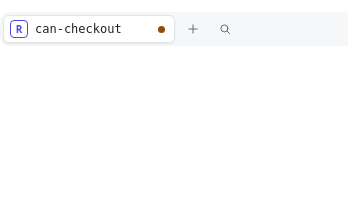
Scenario: TabStrip › keeps the card while the pointer moves onto it, and drops it when the pointer leaves the card (WCAG 1.4.13)
Hover over the tab "R can-checkout" at (78, 29), box [4,16,152,42]
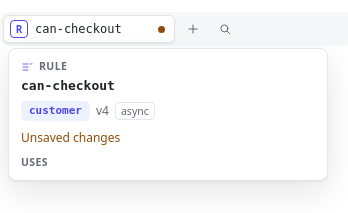
Hoverable: leaving the tab *for the card* is not leaving.
Move the pointer off the tab "R can-checkout", box [4,16,152,42]
Now the tooltip "Rule can-checkout customer v4 async Unsaved changes Uses" is shown
Move the pointer off the tooltip "Rule can-checkout customer v4 async Unsaved changes Uses", box [8,48,328,181]
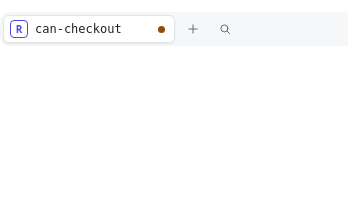
Now the tooltip "Rule can-checkout customer v4 async Unsaved changes Uses" is gone
